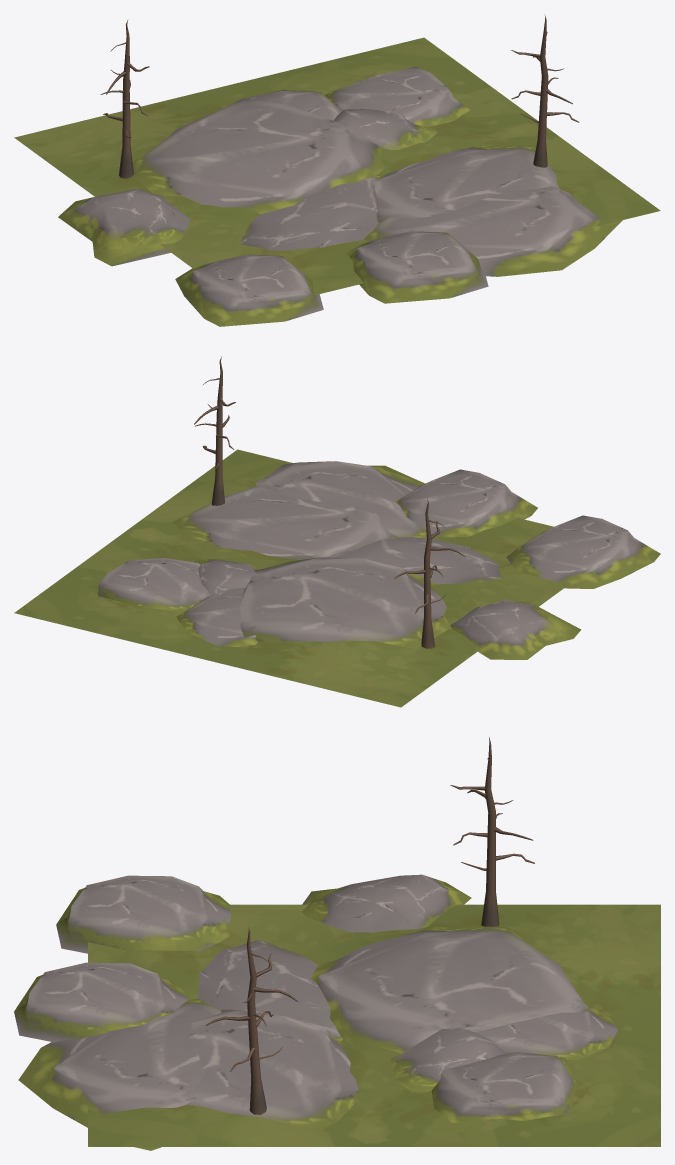
Rendered from smInvaderSpawnTile_v1.fbx.
The picture shows the model from 3 angles, top to bottom: view 1: azimuth 30°, elevation 25°; view 2: azimuth 150°, elevation 25°; view 3: azimuth 270°, elevation 25°; orthographic projection. The views are drawn at different scales.
Visible parts, largest first — view 1: group55; view 2: group55; view 3: group55.
Boxes of the visible parts, left/top/right/bottom form: group55: left=14, top=14, right=660, bottom=326; group55: left=14, top=356, right=660, bottom=707; group55: left=14, top=737, right=660, bottom=1150.
Size of the model in its own units: 112 by 40.15 by 113.
